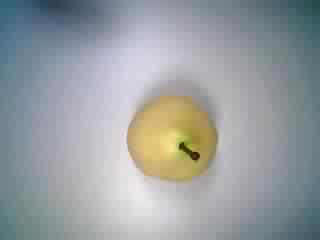pear: (112, 81, 223, 195)
